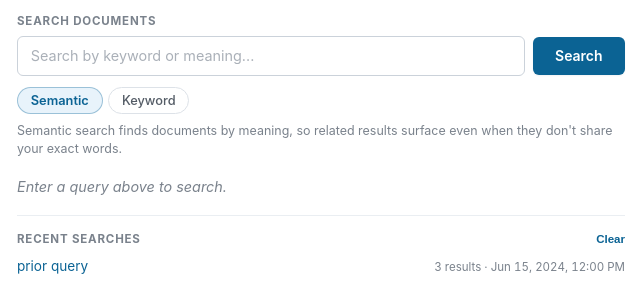
Scenario: SearchPanel › lists recent searches and re-runs one on click
Click the button "prior query": (53, 266) [17,258,88,274]
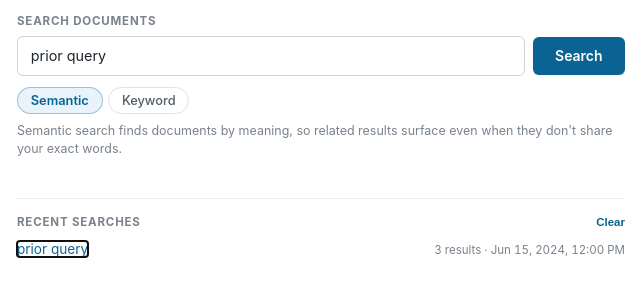
expect the search field holds "prior query": met, box [17,36,525,76]
